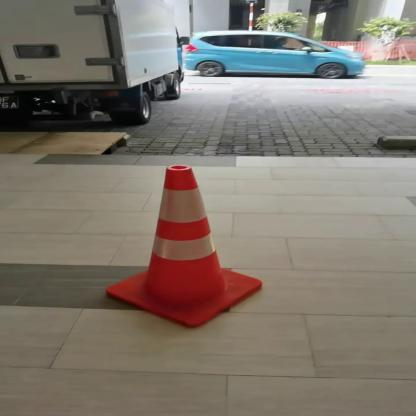cone: (102, 159, 274, 334)
